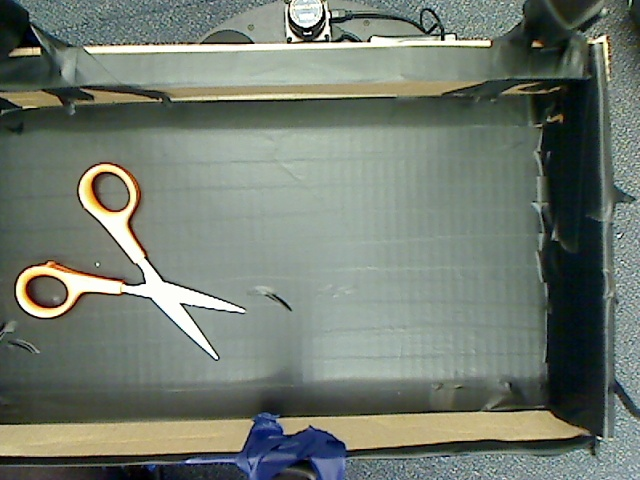scissors: (6, 154, 254, 371)
